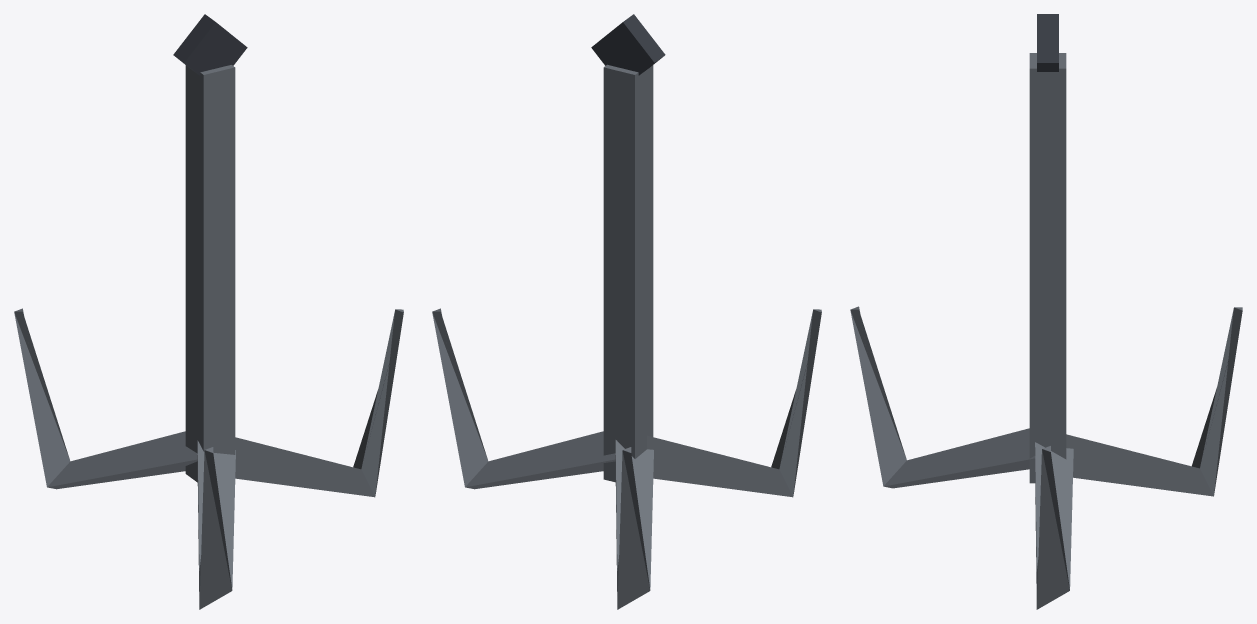
Rendered from SM_Prop_GrapplingHook_LQ.glb.
3 renders of one model, left to right at view 1: azimuth 30°, elevation 25°; view 2: azimuth 150°, elevation 25°; view 3: azimuth 270°, elevation 25°, orthographic.
Visible parts, largest first — view 1: SM_Prop_GrapplingHook_LQ; view 2: SM_Prop_GrapplingHook_LQ; view 3: SM_Prop_GrapplingHook_LQ.
Boxes of the visible parts, box(x1,y1,x2,y2) form: SM_Prop_GrapplingHook_LQ: box(14, 14, 403, 609); SM_Prop_GrapplingHook_LQ: box(432, 14, 821, 609); SM_Prop_GrapplingHook_LQ: box(850, 14, 1242, 609).
Bounding box in the file's own units: 0.4636 × 0.7735 × 0.5314.
1 material, 1 textured.
